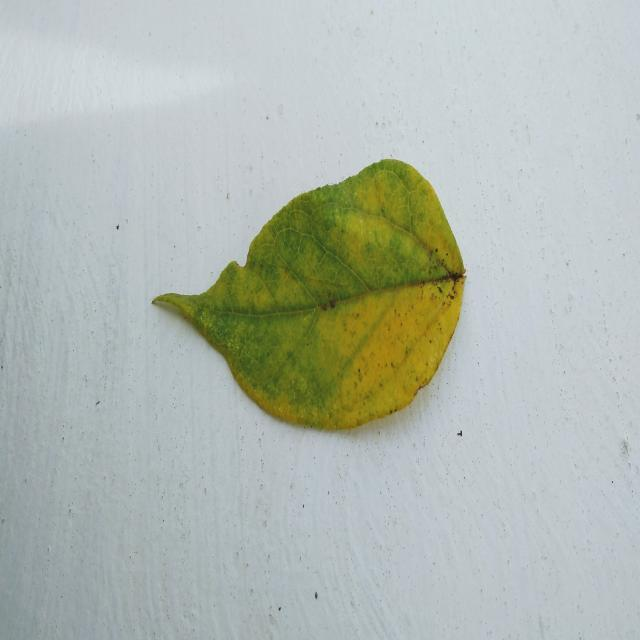leaf: (151, 157, 466, 431)
